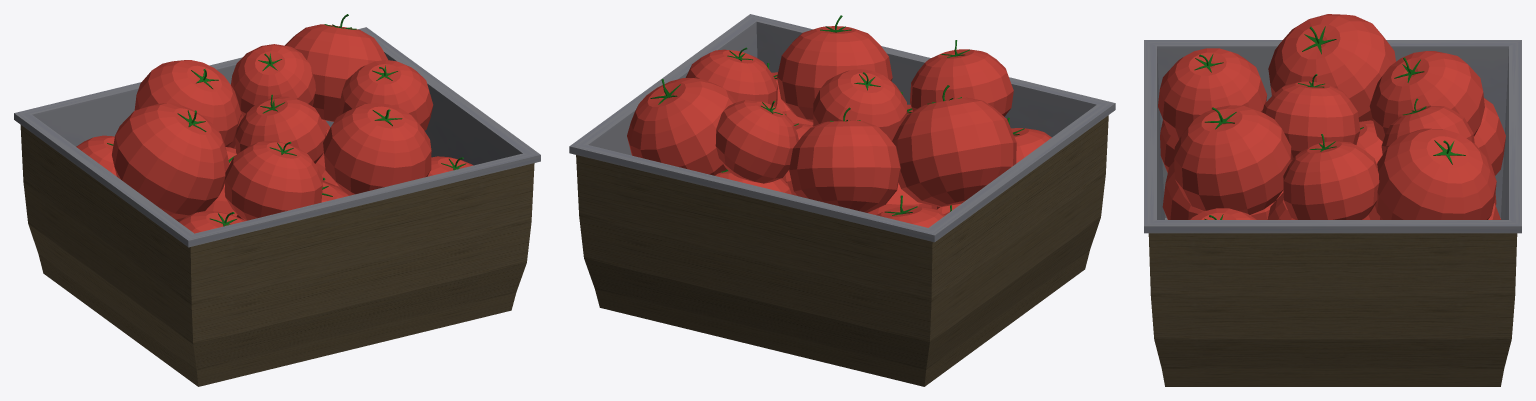
File: TomatenBox.fbx
3 renders of one model, left to right at view 1: azimuth 30°, elevation 25°; view 2: azimuth 150°, elevation 25°; view 3: azimuth 270°, elevation 25°, orthographic. The views are drawn at different scales.
Parts seen in each view (by area): view 1: BoxTomaten; view 2: BoxTomaten; view 3: BoxTomaten.
Part boxes in pixels (<box>): BoxTomaten: <box>14,14,540,386</box>; BoxTomaten: <box>569,14,1115,386</box>; BoxTomaten: <box>1144,14,1521,386</box>.
Bounding box in the file's own units: 70 × 40.13 × 60.
